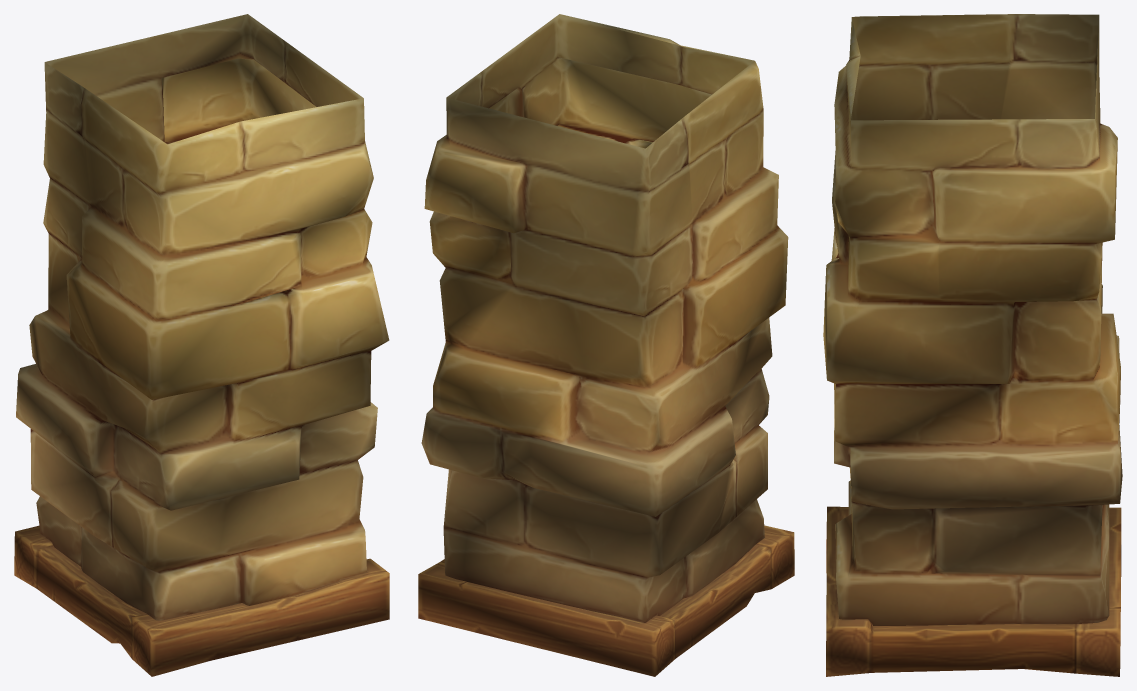
Rendered from Fireplace_middle.gltf.
The picture shows the model from 3 angles, left to right: view 1: azimuth 30°, elevation 25°; view 2: azimuth 150°, elevation 25°; view 3: azimuth 270°, elevation 25°; orthographic projection. The views are drawn at different scales.
Parts seen in each view (by area): view 1: Fireplace_middle; view 2: Fireplace_middle; view 3: Fireplace_middle.
Boxes of the visible parts, bbox=[...] form: Fireplace_middle: bbox=[14, 14, 389, 676]; Fireplace_middle: bbox=[418, 14, 794, 676]; Fireplace_middle: bbox=[823, 14, 1122, 676].
Size of the model in its own units: 0.9784 by 2 by 0.9809.
1 material, 1 textured.
